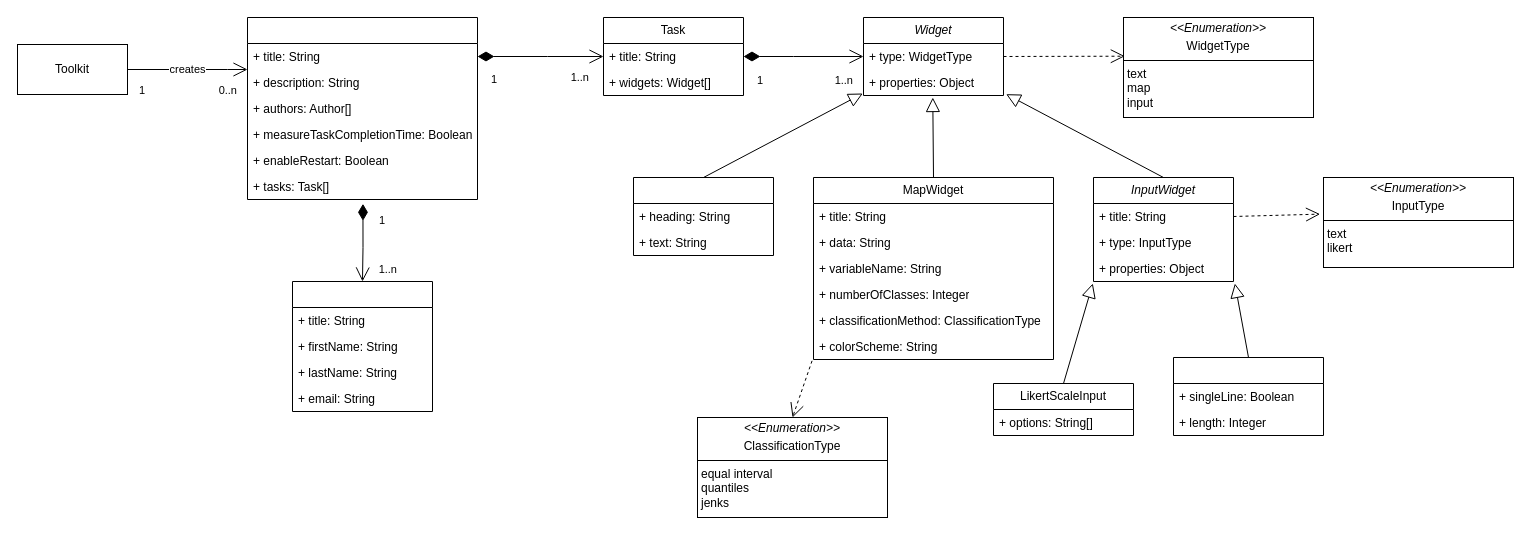
This 1531x535 diagram has some shape labels left out. The box of each missing label's shape, as (x1, y1, x2, y2) in pixels:
Author: (292, 280, 432, 412)
Experiment: (246, 16, 478, 200)
TextInput: (1172, 356, 1324, 436)
TextWidget: (632, 176, 774, 256)
